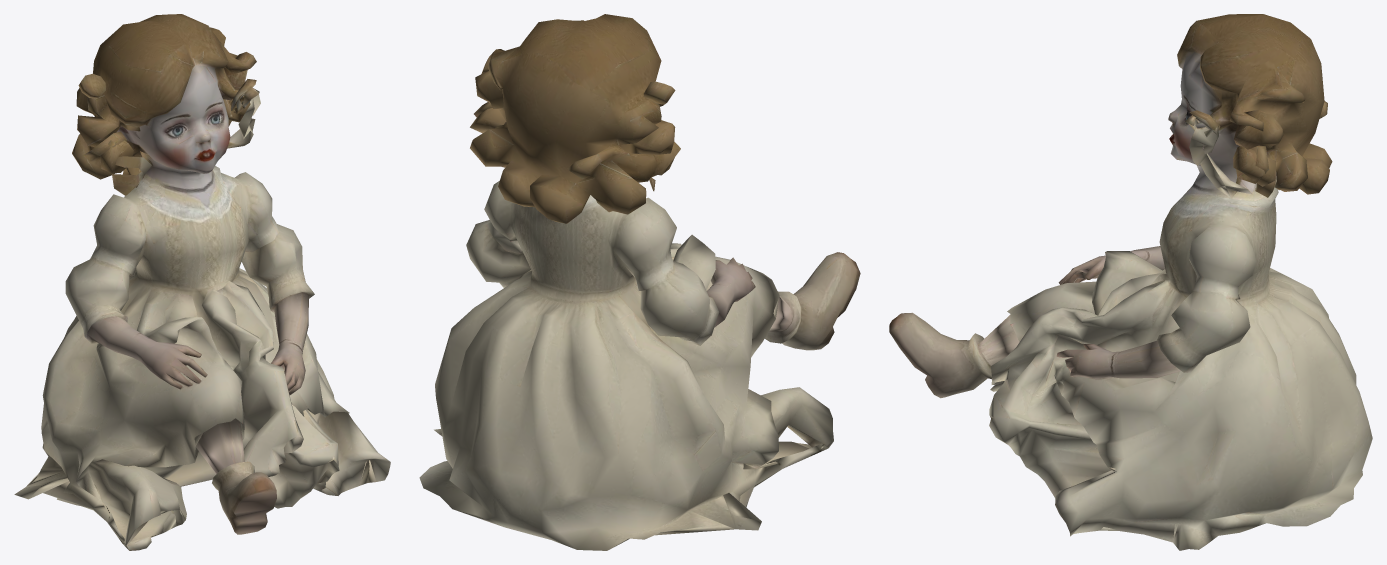
Rendered from doll.glb.
The picture shows the model from 3 angles, left to right: view 1: azimuth 30°, elevation 25°; view 2: azimuth 150°, elevation 25°; view 3: azimuth 270°, elevation 25°; orthographic projection. The views are drawn at different scales.
Size of the model in its own units: 0.728 by 0.9512 by 0.9268.
1 material, 1 textured.
